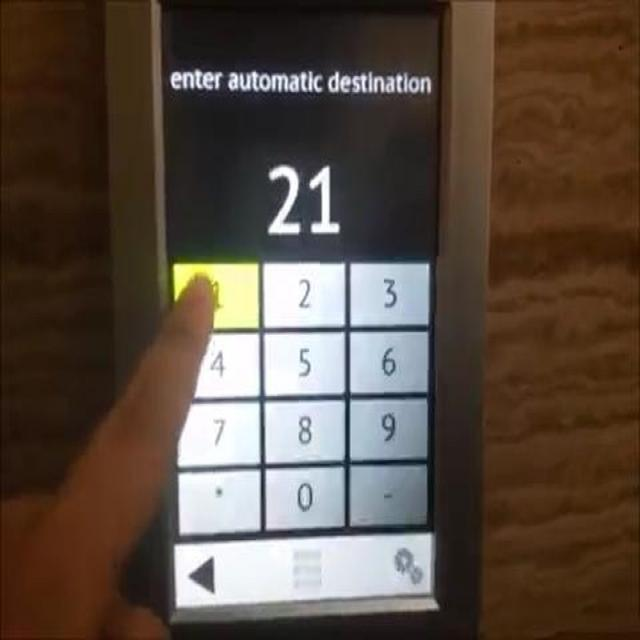-: (177, 469, 260, 534), (349, 464, 427, 525)
0: (264, 467, 346, 529)
2: (260, 259, 346, 328)
3: (349, 260, 428, 327)
4: (175, 331, 260, 397)
5: (262, 331, 345, 396)
6: (348, 331, 429, 393)
7: (175, 401, 259, 467)
8: (262, 398, 345, 462)
9: (348, 398, 428, 462)
